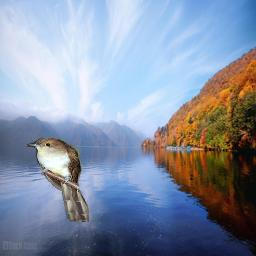Cuckoo: (27, 136, 89, 222)
